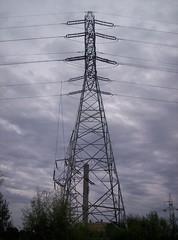power_tower: (43, 8, 139, 227)
